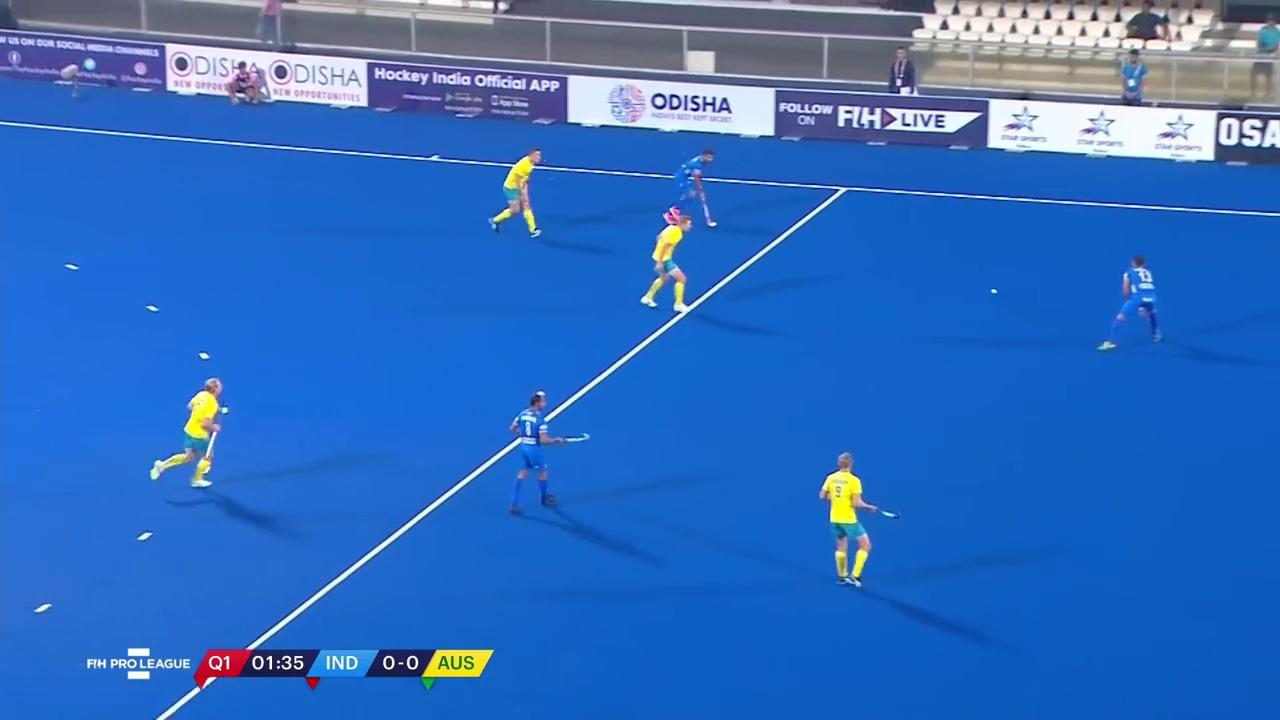ball: (990, 285, 1000, 295)
